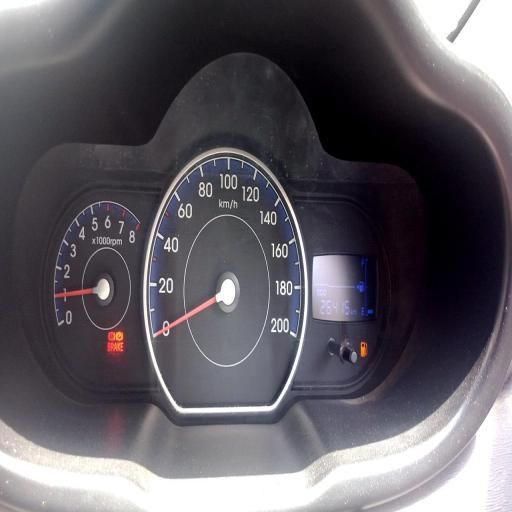brake_system_fault: (108, 331, 116, 342)
tachometer: (54, 197, 142, 351)
